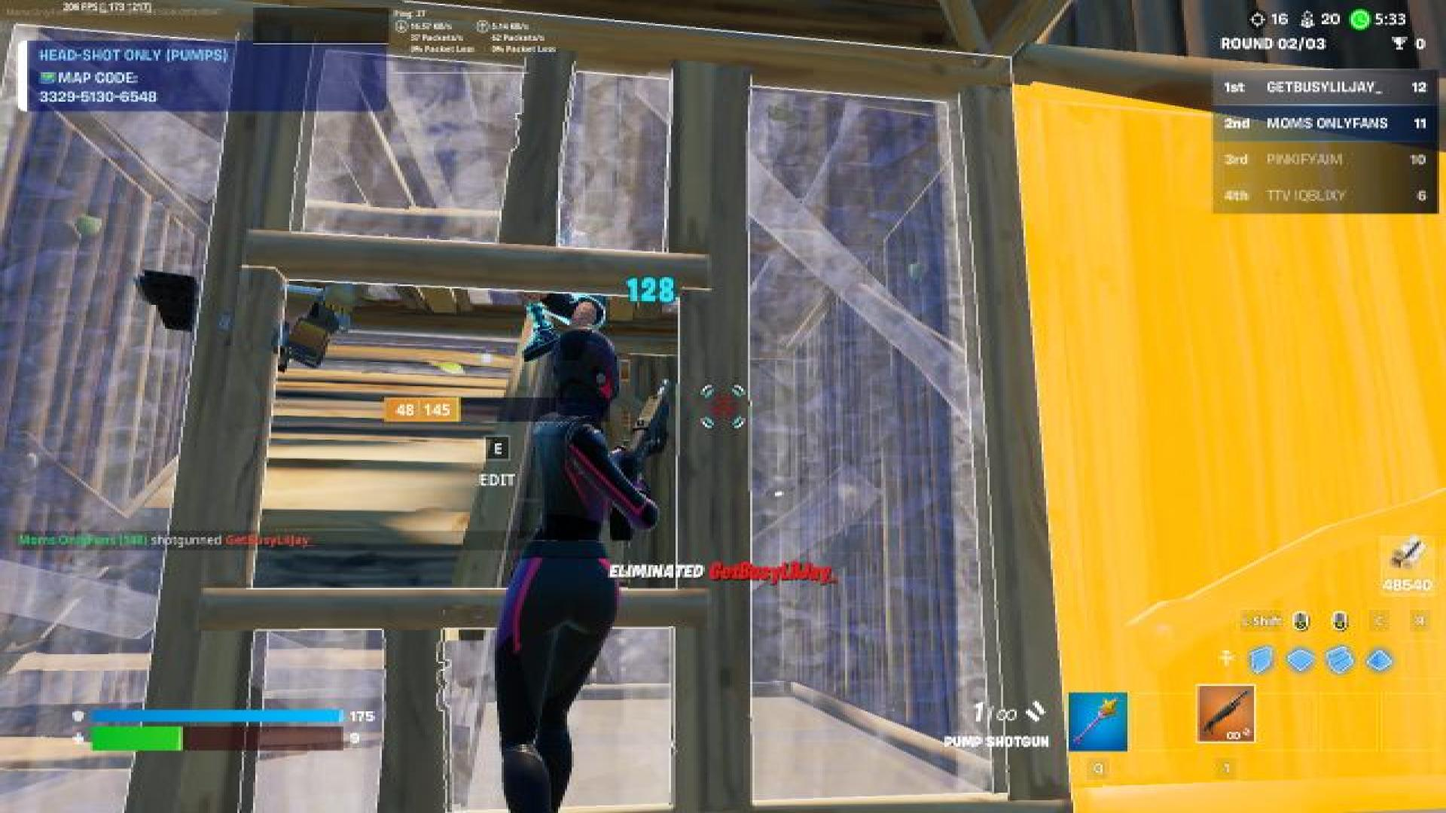player: (524, 289, 603, 347)
